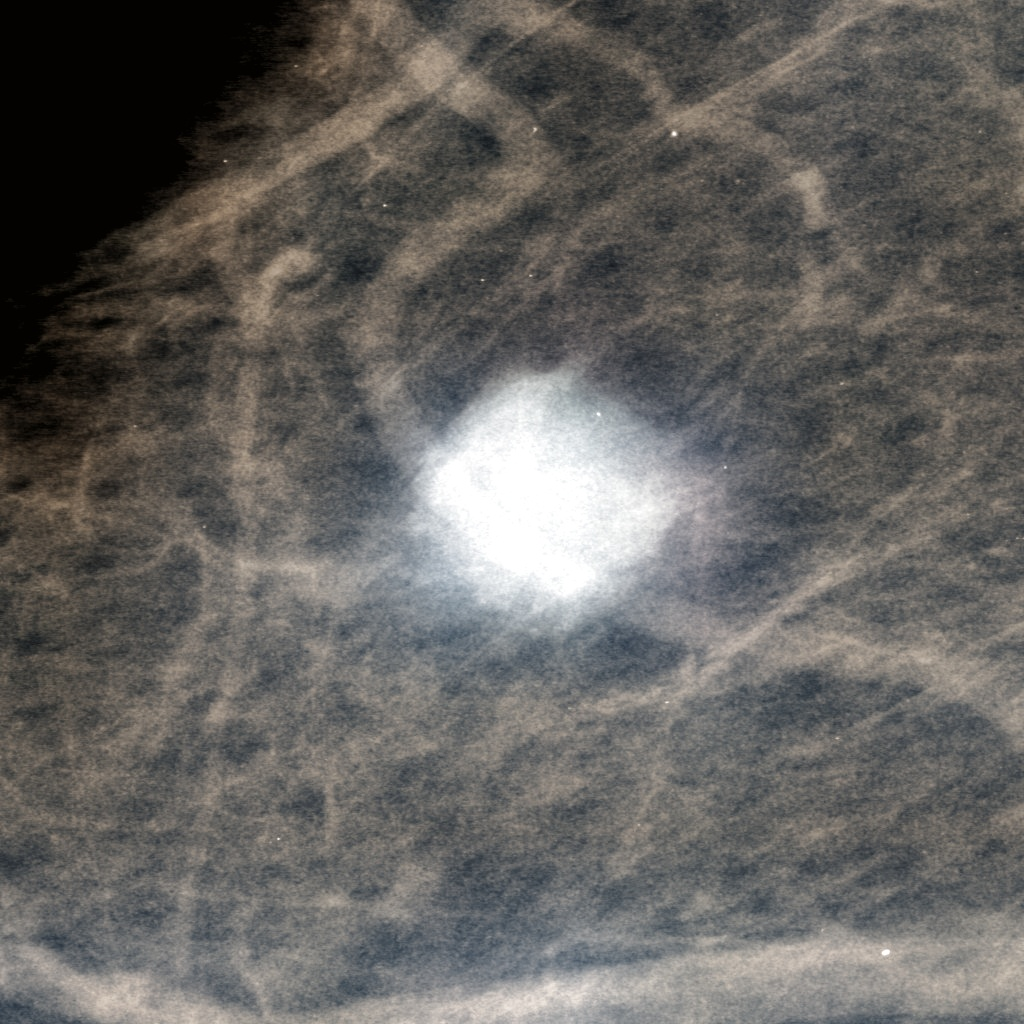tumor: (349, 362, 675, 662)
